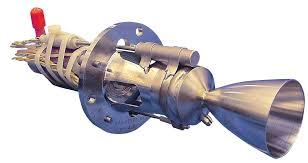thruster: (207, 74, 305, 160)
